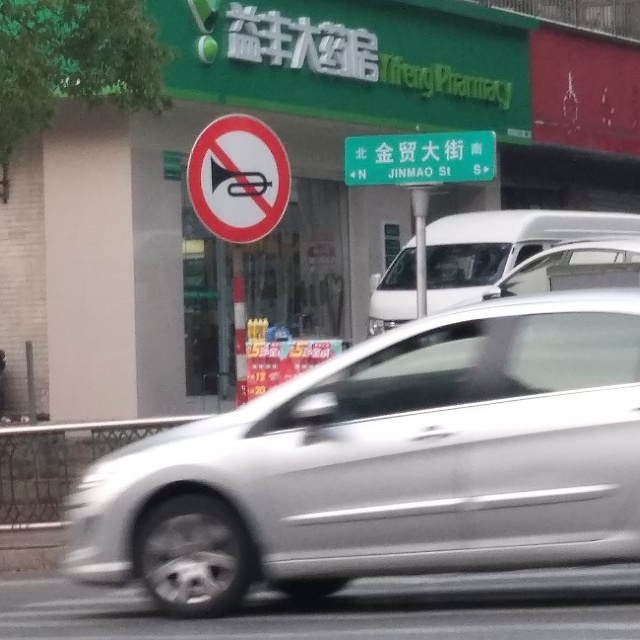nohonk: (189, 107, 295, 250)
